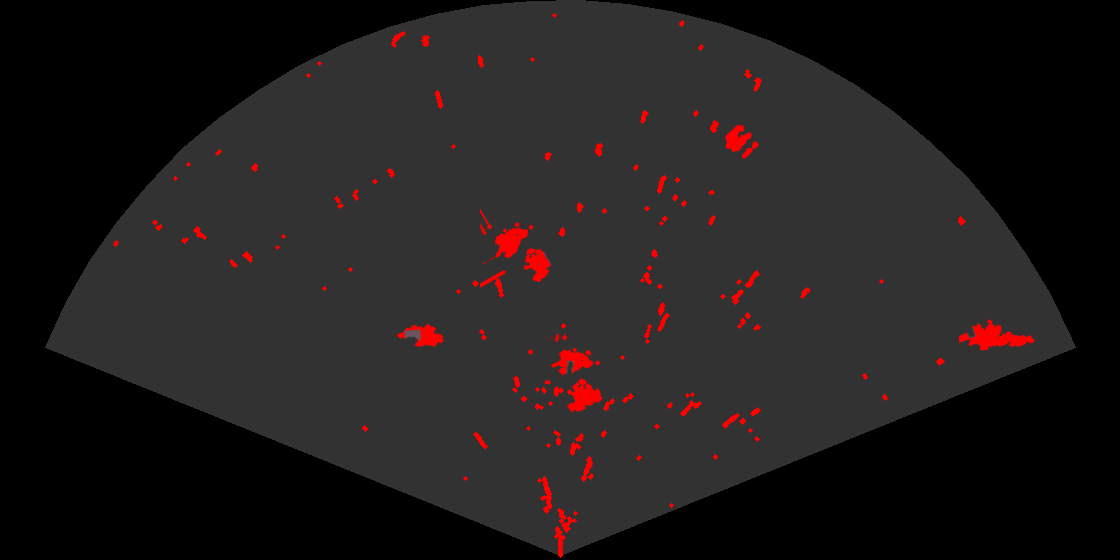AUV: (395, 323, 446, 348)
ball: (724, 123, 760, 160)
cage: (480, 208, 552, 289), (545, 334, 604, 414)
frogman: (959, 318, 1036, 352)
